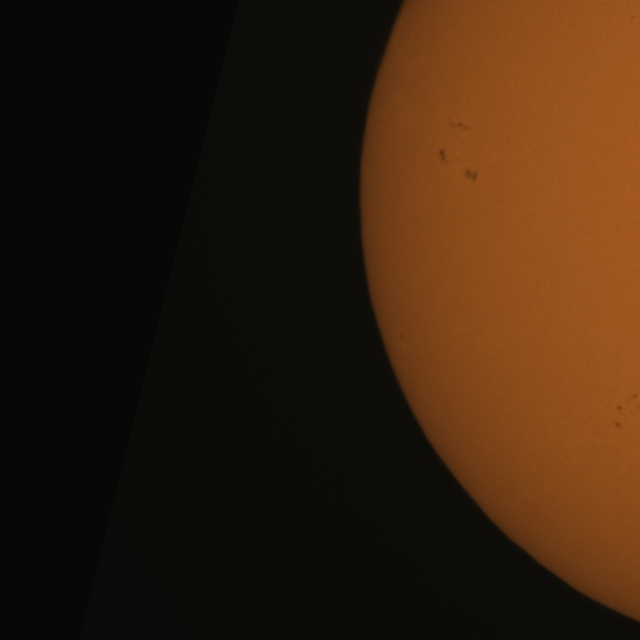sunspot: (438, 150, 479, 183), (614, 392, 640, 420), (614, 401, 632, 425), (448, 118, 470, 132), (462, 166, 479, 184), (438, 145, 447, 162), (614, 420, 623, 430), (630, 13, 636, 20)
